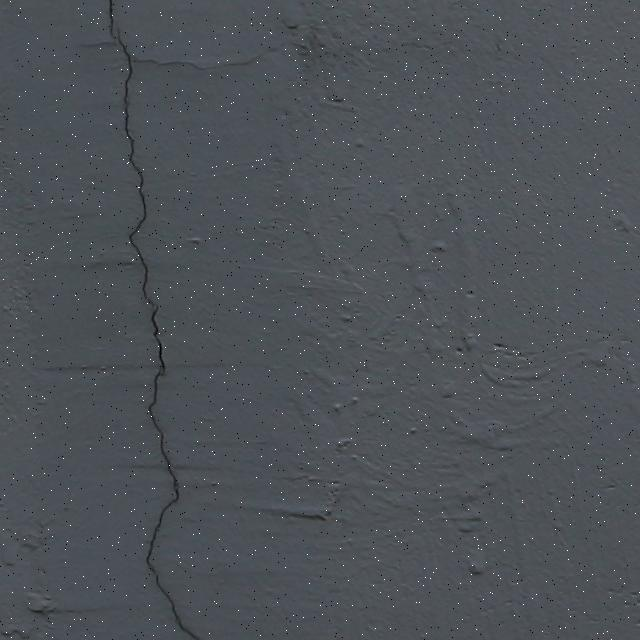minor crack: (5, 18, 69, 622)
moderate crack: (118, 4, 187, 632), (108, 1, 138, 188), (140, 494, 340, 521), (27, 356, 235, 378), (124, 46, 268, 72)
severe crack: (20, 590, 125, 618)
